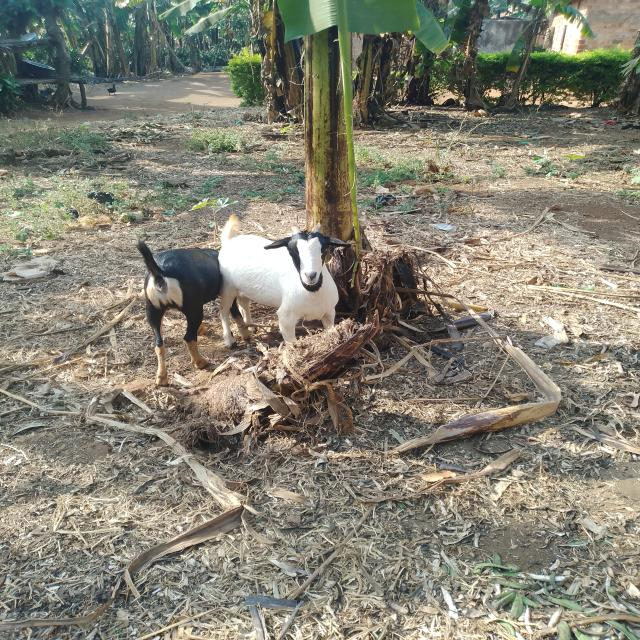goat: (197, 200, 380, 363)
